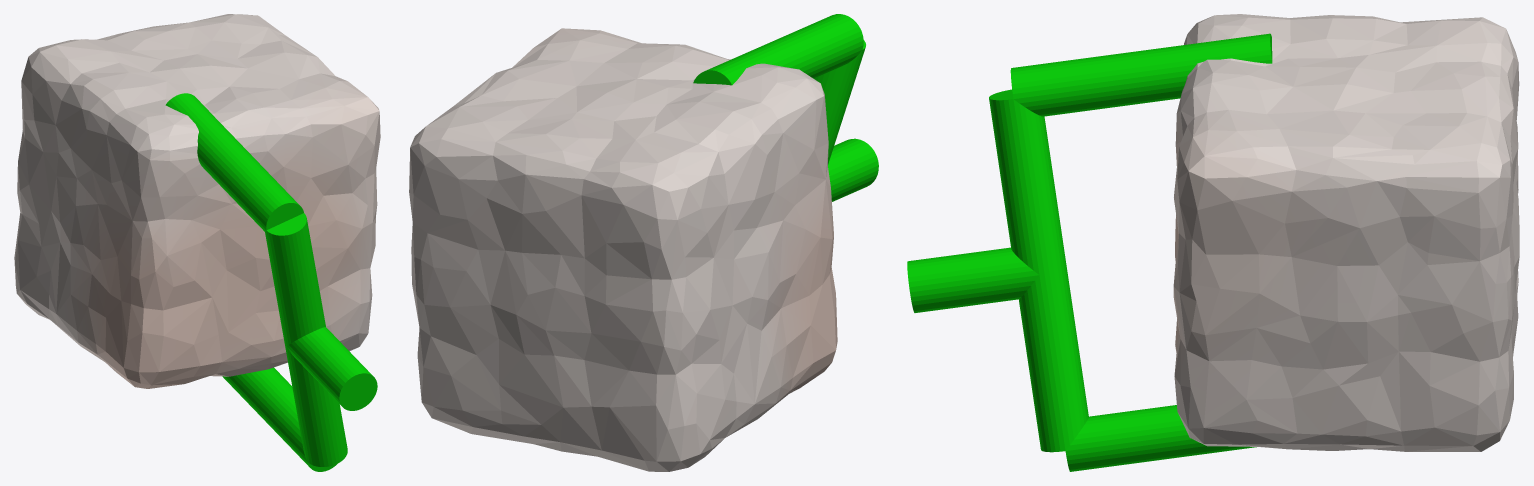
Rendered from round_000_trial_000.obj.
The picture shows the model from 3 angles, left to right: view 1: azimuth 30°, elevation 25°; view 2: azimuth 150°, elevation 25°; view 3: azimuth 270°, elevation 25°; orthographic projection. The views are drawn at different scales.
Parts seen in each view (by area): view 1: geometry_0, geometry_1; view 2: geometry_0, geometry_1; view 3: geometry_0, geometry_1.
Boxes of the visible parts, <box> form: geometry_0: <box>14,14,380,388</box>; geometry_1: <box>165,93,377,471</box>; geometry_0: <box>409,28,837,471</box>; geometry_1: <box>693,14,878,201</box>; geometry_0: <box>1173,14,1519,451</box>; geometry_1: <box>907,33,1272,471</box>.
Bounding box in the file's own units: 0.0678 × 0.0838 × 0.1168.
